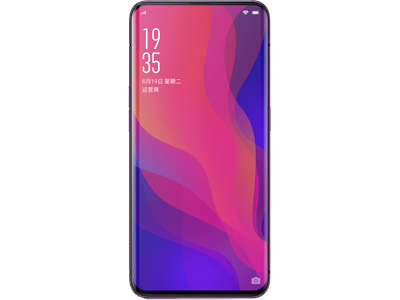Handphone: (128, 1, 271, 300)
